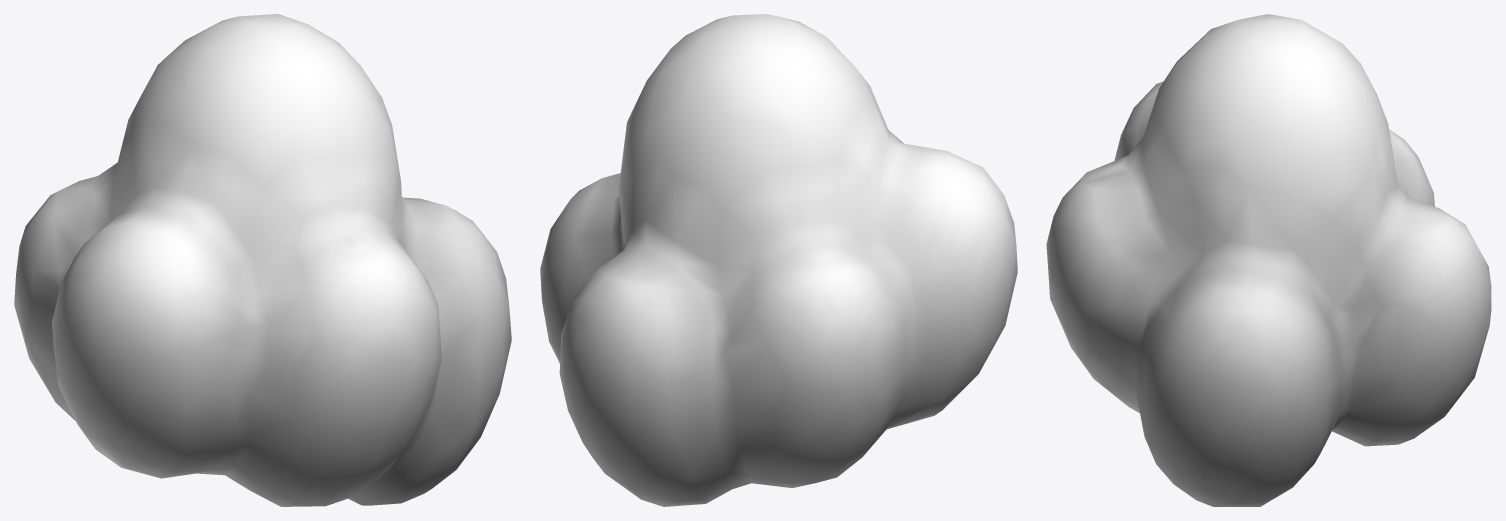
The model's file is birchBall3_lod.fbx.
3 views of the same model, side by side, from view 1: azimuth 30°, elevation 25°; view 2: azimuth 150°, elevation 25°; view 3: azimuth 270°, elevation 25° (orthographic). The views are drawn at different scales.
Parts seen in each view (by area): view 1: birchBall3_LOD0; view 2: birchBall3_LOD0; view 3: birchBall3_LOD0.
Boxes of the visible parts, x1=… form: birchBall3_LOD0: x1=14, y1=14, x2=511, y2=506; birchBall3_LOD0: x1=540, y1=14, x2=1017, y2=506; birchBall3_LOD0: x1=1046, y1=14, x2=1491, y2=506.
Size of what is drawn, in the model's own units: 201 by 208 by 193.
1 material, 1 textured.
